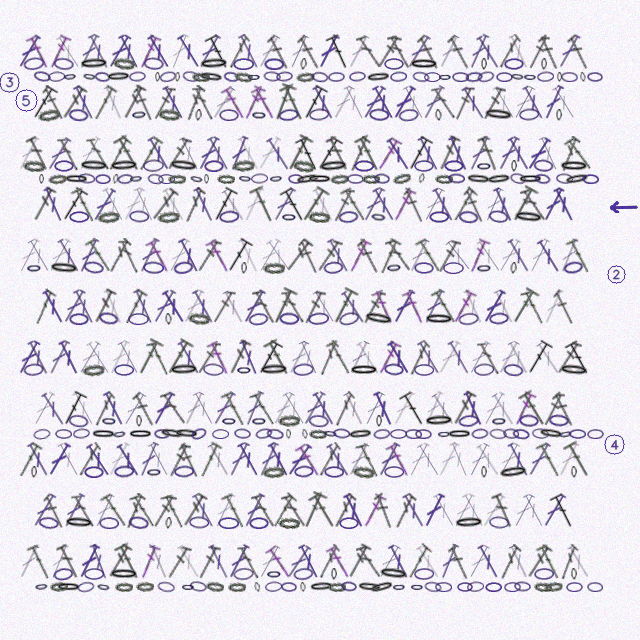chain: (363, 310, 394, 327), (498, 464, 529, 480), (483, 107, 514, 122), (168, 158, 199, 173), (378, 566, 409, 581), (318, 159, 349, 173), (513, 210, 544, 224), (49, 261, 79, 275), (559, 363, 589, 377), (369, 579, 395, 595), (79, 57, 109, 70), (199, 57, 229, 70), (79, 159, 109, 172), (109, 159, 139, 172), (169, 363, 199, 376), (259, 363, 289, 376), (424, 414, 454, 427), (64, 516, 94, 529), (454, 516, 484, 529), (37, 107, 61, 123), (338, 310, 360, 327), (295, 172, 321, 186), (564, 172, 590, 186), (409, 58, 439, 70), (559, 160, 589, 172), (424, 313, 454, 325), (349, 364, 379, 376), (109, 568, 139, 580), (159, 427, 185, 440), (538, 427, 564, 440), (23, 56, 45, 71), (292, 159, 315, 173), (97, 210, 120, 224), (157, 210, 180, 224), (82, 363, 105, 377), (262, 465, 285, 479), (352, 465, 375, 479), (488, 209, 509, 224), (83, 260, 104, 275), (173, 260, 194, 275), (563, 260, 584, 275), (98, 311, 119, 326), (128, 515, 149, 530), (198, 71, 224, 83), (486, 173, 512, 185), (366, 71, 391, 83), (392, 171, 412, 186), (466, 173, 491, 185), (348, 428, 373, 440), (357, 581, 382, 593), (232, 159, 255, 172), (53, 57, 74, 71), (68, 108, 89, 122), (278, 108, 299, 122), (398, 108, 419, 122), (338, 210, 359, 224), (458, 210, 479, 224), (248, 312, 269, 326), (458, 312, 479, 326), (503, 363, 524, 377), (68, 414, 89, 428), (308, 414, 329, 428), (458, 414, 479, 428), (38, 516, 59, 530), (53, 567, 74, 581), (233, 567, 254, 581), (293, 567, 314, 581), (113, 57, 135, 70), (158, 108, 180, 121), (188, 312, 210, 325), (278, 414, 300, 427), (106, 71, 131, 82), (174, 428, 199, 439), (309, 581, 334, 592), (143, 57, 164, 70), (143, 159, 164, 172), (533, 159, 554, 172), (143, 261, 164, 274), (323, 261, 344, 274), (308, 312, 329, 325), (23, 363, 44, 376), (203, 363, 224, 376), (293, 363, 314, 376), (548, 414, 569, 427), (190, 426, 208, 441), (23, 160, 45, 172), (308, 211, 330, 223), (263, 262, 285, 274), (278, 517, 300, 529), (309, 108, 329, 121), (369, 108, 389, 121), (519, 108, 539, 121), (129, 210, 149, 223), (219, 210, 239, 223), (279, 312, 299, 325), (489, 312, 509, 325), (384, 363, 404, 376), (474, 363, 494, 376), (519, 414, 539, 427), (114, 465, 134, 478), (174, 465, 194, 478), (294, 465, 314, 478), (189, 516, 209, 529), (489, 516, 509, 529), (233, 58, 254, 70), (443, 262, 464, 274), (128, 313, 149, 325), (218, 517, 239, 529), (64, 174, 89, 184), (307, 174, 332, 184), (518, 174, 543, 184), (91, 429, 116, 439), (128, 429, 153, 439), (447, 429, 472, 439), (56, 582, 81, 592), (264, 58, 284, 70), (384, 58, 404, 70), (504, 58, 524, 70), (219, 109, 239, 121), (54, 160, 74, 172), (204, 160, 224, 172), (354, 160, 374, 172), (414, 160, 434, 172), (444, 160, 464, 172), (69, 211, 89, 223), (429, 211, 449, 223), (414, 262, 434, 274), (69, 313, 89, 325), (114, 364, 134, 376), (414, 364, 434, 376), (84, 466, 104, 478), (324, 466, 344, 478), (384, 466, 404, 478), (99, 517, 119, 529), (249, 517, 269, 529), (339, 517, 359, 529), (84, 568, 104, 580), (414, 568, 434, 580), (534, 568, 554, 580), (370, 210, 387, 224), (33, 70, 51, 83), (159, 70, 177, 83), (182, 70, 200, 83), (477, 70, 495, 83), (509, 172, 527, 185), (255, 427, 273, 440), (189, 580, 207, 593), (234, 71, 253, 83), (296, 71, 315, 83), (48, 173, 67, 185), (330, 173, 349, 185), (311, 71, 329, 83), (412, 71, 430, 83), (465, 71, 483, 83), (33, 428, 51, 440), (266, 428, 284, 440), (373, 428, 391, 440), (489, 428, 507, 440), (512, 428, 530, 440), (77, 581, 95, 593), (157, 581, 175, 593), (424, 581, 442, 593), (544, 581, 563, 592), (131, 108, 147, 121), (386, 261, 402, 274), (94, 71, 111, 83), (223, 71, 240, 83), (117, 173, 134, 185), (147, 173, 164, 185), (534, 173, 551, 185), (263, 71, 281, 82), (471, 428, 489, 439), (532, 428, 550, 439), (50, 581, 68, 592), (136, 581, 154, 592), (206, 581, 224, 592), (251, 109, 267, 121), (476, 160, 492, 172), (281, 211, 297, 223), (26, 262, 42, 274), (476, 262, 492, 274), (236, 364, 252, 376), (101, 415, 117, 427), (221, 415, 237, 427), (251, 415, 267, 427), (491, 415, 507, 427), (146, 466, 162, 478), (266, 568, 282, 580), (48, 71, 65, 82), (129, 71, 146, 82), (276, 71, 293, 82), (349, 71, 366, 82), (390, 71, 407, 82), (537, 71, 554, 82), (78, 173, 95, 184), (251, 173, 268, 184), (448, 173, 465, 184), (556, 173, 573, 184), (73, 428, 90, 439), (234, 428, 251, 439), (333, 428, 350, 439), (265, 581, 282, 592), (467, 581, 484, 592), (514, 581, 531, 592), (192, 72, 210, 82), (168, 174, 186, 184), (189, 173, 204, 185), (217, 174, 235, 184), (362, 174, 380, 184), (435, 174, 453, 184), (112, 428, 127, 440), (309, 429, 327, 439), (558, 428, 573, 440), (96, 581, 111, 593), (115, 582, 133, 592), (228, 582, 246, 592), (328, 582, 346, 592), (534, 582, 552, 592), (374, 173, 390, 184), (503, 428, 519, 439), (341, 581, 357, 592), (328, 72, 345, 82), (424, 72, 441, 82), (452, 72, 469, 82), (496, 72, 513, 82), (561, 72, 578, 82), (158, 174, 175, 184), (347, 174, 364, 184), (582, 174, 599, 184), (55, 429, 72, 439), (212, 429, 229, 439), (390, 429, 407, 439), (405, 429, 422, 439), (415, 429, 432, 439), (569, 429, 586, 439), (587, 429, 604, 439), (435, 582, 452, 592), (485, 582, 502, 592), (504, 582, 521, 592), (566, 582, 583, 592), (82, 71, 97, 82), (510, 71, 525, 82), (323, 428, 338, 439), (34, 581, 49, 592), (587, 72, 603, 82), (95, 174, 111, 184), (288, 174, 304, 184), (154, 429, 170, 439), (281, 582, 297, 592), (457, 582, 473, 592), (587, 582, 603, 592), (63, 71, 77, 82), (129, 173, 143, 184), (238, 173, 252, 184), (269, 173, 283, 184), (247, 72, 261, 82), (438, 72, 452, 82), (523, 72, 537, 82), (437, 429, 451, 439), (181, 582, 195, 592), (392, 582, 406, 592), (410, 582, 424, 592), (300, 58, 307, 70), (195, 109, 202, 121), (435, 109, 442, 121), (510, 262, 517, 274), (165, 313, 172, 325), (165, 517, 172, 529), (418, 173, 425, 184), (481, 58, 487, 70), (541, 58, 547, 70), (556, 109, 562, 121), (511, 160, 517, 172), (241, 262, 247, 274), (136, 415, 142, 427), (376, 415, 382, 427), (31, 466, 37, 478), (481, 466, 487, 478), (571, 466, 577, 478), (331, 568, 337, 580), (571, 568, 577, 580), (112, 174, 119, 184), (254, 582, 261, 592), (580, 72, 586, 82), (302, 429, 308, 439), (300, 582, 306, 592), (155, 72, 160, 82), (175, 72, 180, 82), (557, 72, 562, 82), (39, 174, 44, 184), (204, 174, 209, 184), (286, 429, 291, 439)
double: (508, 287, 540, 326), (518, 389, 550, 428), (308, 491, 340, 530), (298, 186, 330, 224), (113, 134, 144, 173), (283, 134, 314, 173), (508, 185, 539, 224), (163, 338, 194, 377), (263, 338, 294, 377), (563, 440, 594, 479), (28, 84, 59, 122), (313, 135, 344, 173), (58, 186, 89, 224), (223, 237, 254, 275), (523, 339, 554, 377), (398, 390, 429, 428), (354, 134, 384, 173), (329, 287, 359, 326), (134, 338, 164, 377), (114, 542, 144, 581), (299, 84, 329, 122), (404, 135, 434, 173), (209, 186, 239, 224), (279, 186, 309, 224), (254, 339, 284, 377), (564, 339, 594, 377), (279, 83, 308, 122), (249, 185, 278, 224), (269, 287, 298, 326), (299, 491, 328, 530), (563, 136, 594, 172), (283, 238, 314, 274), (134, 135, 164, 172), (449, 186, 479, 223), (99, 492, 129, 529), (204, 33, 233, 71), (294, 135, 323, 173), (59, 390, 88, 428), (549, 492, 578, 530), (443, 238, 474, 273), (149, 187, 179, 223), (264, 238, 294, 274), (474, 238, 504, 274), (284, 442, 314, 478), (264, 544, 294, 580), (89, 84, 118, 121), (104, 135, 133, 172), (339, 186, 368, 223), (84, 237, 113, 274), (414, 237, 443, 274), (249, 390, 278, 427), (14, 441, 43, 478), (129, 492, 158, 529), (269, 492, 298, 529), (404, 543, 433, 580), (325, 33, 353, 71), (270, 83, 297, 122), (54, 34, 83, 70), (404, 34, 433, 70), (474, 34, 503, 70), (59, 85, 88, 121), (209, 85, 238, 121), (459, 85, 488, 121), (44, 136, 73, 172), (264, 136, 293, 172), (374, 136, 403, 172), (384, 136, 413, 172), (524, 136, 553, 172), (219, 187, 248, 223), (339, 289, 368, 325), (84, 340, 113, 376), (354, 340, 383, 376), (534, 340, 563, 376), (39, 391, 68, 427), (429, 391, 458, 427), (489, 391, 518, 427), (84, 442, 113, 478), (114, 442, 143, 478), (294, 442, 323, 478), (324, 442, 353, 478), (414, 442, 443, 478), (474, 442, 503, 478), (479, 493, 508, 529), (284, 544, 313, 580), (414, 544, 443, 580), (524, 544, 553, 580), (15, 33, 43, 70), (105, 33, 133, 70), (145, 33, 173, 70), (175, 33, 203, 70), (195, 33, 223, 70), (255, 33, 283, 70), (555, 33, 583, 70), (220, 84, 248, 121), (250, 84, 278, 121), (360, 84, 388, 121), (390, 84, 418, 121), (490, 84, 518, 121), (550, 84, 578, 121), (75, 135, 103, 172), (145, 135, 173, 172), (235, 135, 263, 172), (255, 135, 283, 172), (505, 135, 533, 172), (160, 186, 188, 223), (270, 186, 298, 223), (370, 186, 398, 223), (25, 237, 53, 274), (45, 237, 73, 274), (55, 237, 83, 274), (255, 237, 283, 274), (495, 237, 523, 274), (505, 237, 533, 274), (60, 288, 88, 325), (120, 288, 148, 325), (150, 288, 178, 325), (160, 288, 188, 325), (240, 288, 268, 325), (310, 288, 338, 325), (430, 288, 458, 325), (480, 288, 508, 325), (75, 339, 103, 376), (175, 339, 203, 376), (325, 339, 353, 376), (385, 339, 413, 376), (415, 339, 443, 376), (435, 339, 463, 376), (445, 339, 473, 376), (465, 339, 493, 376), (210, 390, 238, 427), (280, 390, 308, 427), (300, 390, 328, 427), (310, 390, 338, 427), (45, 441, 73, 478), (195, 441, 223, 478), (205, 441, 233, 478), (525, 441, 553, 478), (30, 492, 58, 529), (180, 492, 208, 529), (400, 492, 428, 529), (430, 492, 458, 529), (540, 492, 568, 529), (105, 543, 133, 580), (175, 543, 203, 580), (255, 543, 283, 580), (325, 543, 353, 580), (375, 543, 403, 580), (565, 543, 593, 580), (70, 186, 97, 224), (375, 237, 402, 275), (565, 237, 592, 275), (520, 288, 547, 326), (220, 390, 247, 428), (355, 441, 382, 479), (535, 441, 562, 479), (160, 492, 187, 530), (220, 492, 247, 530), (535, 543, 562, 581), (90, 187, 118, 223), (535, 238, 563, 274), (120, 391, 148, 427), (25, 33, 52, 70), (315, 33, 342, 70), (345, 33, 372, 70), (120, 84, 147, 121), (160, 84, 187, 121), (310, 84, 337, 121), (330, 84, 357, 121), (370, 84, 397, 121), (400, 84, 427, 121), (420, 84, 447, 121), (510, 84, 537, 121), (520, 84, 547, 121), (15, 135, 42, 172), (25, 135, 52, 172), (195, 135, 222, 172), (205, 135, 232, 172), (325, 135, 352, 172), (415, 135, 442, 172), (495, 135, 522, 172), (30, 186, 57, 223), (100, 186, 127, 223), (120, 186, 147, 223), (310, 186, 337, 223), (360, 186, 387, 223), (390, 186, 417, 223), (420, 186, 447, 223), (430, 186, 457, 223), (540, 186, 567, 223), (15, 237, 42, 274), (145, 237, 172, 274), (165, 237, 192, 274), (205, 237, 232, 274), (325, 237, 352, 274), (40, 288, 67, 325), (180, 288, 207, 325), (190, 288, 217, 325), (220, 288, 247, 325), (390, 288, 417, 325), (450, 288, 477, 325), (15, 339, 42, 376), (25, 339, 52, 376), (115, 339, 142, 376), (285, 339, 312, 376), (375, 339, 402, 376), (495, 339, 522, 376), (505, 339, 532, 376), (30, 390, 57, 427), (70, 390, 97, 427), (150, 390, 177, 427), (190, 390, 217, 427), (270, 390, 297, 427), (390, 390, 417, 427), (450, 390, 477, 427), (480, 390, 507, 427), (25, 441, 52, 478), (55, 441, 82, 478), (105, 441, 132, 478), (145, 441, 172, 478), (235, 441, 262, 478), (265, 441, 292, 478), (345, 441, 372, 478), (375, 441, 402, 478), (385, 441, 412, 478), (405, 441, 432, 478), (435, 441, 462, 478), (465, 441, 492, 478), (495, 441, 522, 478), (505, 441, 532, 478), (555, 441, 582, 478), (190, 492, 217, 529), (360, 492, 387, 529), (450, 492, 477, 529), (460, 492, 487, 529), (510, 492, 537, 529), (520, 492, 547, 529), (225, 543, 252, 580), (345, 543, 372, 580), (465, 543, 492, 580), (475, 543, 502, 580), (31, 288, 57, 326), (146, 339, 172, 377), (26, 543, 52, 581), (315, 238, 343, 273), (520, 187, 547, 223), (165, 544, 192, 580), (46, 33, 72, 70), (76, 33, 102, 70), (86, 33, 112, 70), (116, 33, 142, 70), (136, 33, 162, 70), (236, 33, 262, 70), (436, 33, 462, 70), (506, 33, 532, 70), (71, 84, 97, 121), (341, 84, 367, 121), (176, 135, 202, 172), (466, 135, 492, 172), (131, 186, 157, 223), (191, 186, 217, 223), (551, 186, 577, 223), (136, 237, 162, 274), (176, 237, 202, 274), (236, 237, 262, 274), (346, 237, 372, 274), (406, 237, 432, 274), (526, 237, 552, 274), (71, 288, 97, 325), (91, 288, 117, 325), (401, 288, 427, 325), (421, 288, 447, 325), (491, 288, 517, 325), (46, 339, 72, 376), (56, 339, 82, 376), (106, 339, 132, 376), (206, 339, 232, 376), (226, 339, 252, 376), (346, 339, 372, 376), (101, 390, 127, 427), (181, 390, 207, 427), (341, 390, 367, 427), (361, 390, 387, 427), (511, 390, 537, 427), (226, 441, 252, 478), (61, 492, 87, 529), (91, 492, 117, 529), (211, 492, 237, 529), (241, 492, 267, 529), (341, 492, 367, 529), (421, 492, 447, 529), (16, 543, 42, 580), (56, 543, 82, 580), (76, 543, 102, 580), (206, 543, 232, 580), (296, 543, 322, 580), (386, 543, 412, 580), (506, 543, 532, 580), (375, 34, 402, 69), (165, 136, 192, 171), (105, 238, 132, 273), (195, 238, 222, 273), (385, 238, 412, 273), (555, 340, 582, 375), (160, 391, 187, 426), (330, 493, 357, 528), (296, 34, 322, 70), (356, 34, 382, 70), (446, 34, 472, 70), (131, 391, 157, 427), (151, 493, 177, 529), (281, 493, 307, 529), (391, 493, 417, 529), (356, 544, 382, 580), (496, 544, 522, 580), (286, 33, 311, 70), (466, 33, 491, 70), (101, 84, 126, 121), (241, 84, 266, 121), (541, 84, 566, 121), (436, 135, 461, 172), (446, 135, 471, 172), (536, 135, 561, 172), (41, 186, 66, 223), (241, 186, 266, 223), (481, 186, 506, 223), (491, 186, 516, 223), (76, 237, 101, 274), (466, 237, 491, 274), (101, 288, 126, 325), (131, 288, 156, 325), (371, 288, 396, 325), (461, 288, 486, 325), (541, 288, 566, 325), (296, 339, 321, 376), (371, 390, 396, 427), (421, 390, 446, 427), (461, 390, 486, 427), (136, 441, 161, 478), (256, 441, 281, 478), (491, 492, 516, 529), (496, 34, 522, 69), (431, 85, 457, 120), (76, 442, 102, 477), (316, 442, 342, 477), (266, 34, 291, 70), (416, 34, 441, 70), (566, 34, 591, 70), (481, 85, 506, 121), (346, 136, 371, 172), (181, 187, 206, 223), (356, 238, 381, 274), (436, 238, 461, 274), (361, 289, 386, 325), (551, 391, 576, 427), (251, 493, 276, 529), (196, 544, 221, 580), (167, 33, 191, 70), (227, 135, 251, 172), (477, 135, 501, 172), (557, 237, 581, 274), (237, 339, 261, 376), (242, 390, 266, 427), (447, 441, 471, 478), (47, 543, 71, 580), (87, 543, 111, 580), (137, 543, 161, 580), (147, 543, 171, 580), (437, 543, 461, 580), (226, 34, 251, 69), (41, 85, 66, 120), (86, 136, 111, 171), (211, 289, 236, 324), (281, 289, 306, 324), (196, 340, 221, 375), (71, 493, 96, 528), (316, 544, 341, 579), (387, 34, 411, 70), (537, 34, 561, 70), (152, 85, 176, 121), (182, 85, 206, 121), (557, 136, 581, 172), (402, 187, 426, 223), (462, 187, 486, 223), (252, 289, 276, 325), (302, 289, 326, 325), (552, 289, 576, 325), (407, 340, 431, 376), (477, 340, 501, 376), (92, 391, 116, 427), (332, 391, 356, 427), (167, 442, 191, 478), (177, 442, 201, 478), (42, 493, 66, 529), (122, 493, 146, 529), (237, 544, 261, 580), (447, 544, 471, 580), (527, 34, 550, 70), (132, 85, 155, 121), (192, 85, 215, 121), (57, 136, 80, 172), (332, 187, 355, 223), (297, 238, 320, 274), (317, 340, 340, 376), (542, 391, 565, 427), (373, 492, 395, 529), (453, 85, 475, 121), (118, 238, 140, 274), (558, 544, 579, 580)
noise: (13, 87, 40, 114), (602, 432, 627, 457), (605, 263, 628, 286), (0, 70, 21, 94), (607, 201, 638, 213)
